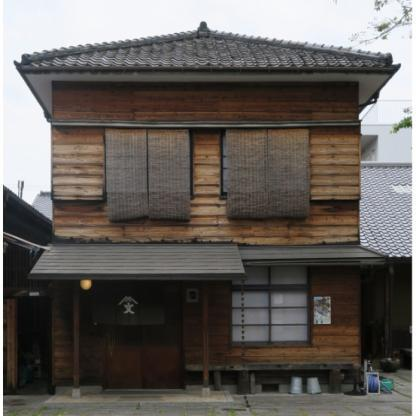Blind: (105, 129, 190, 221), (226, 129, 309, 220), (93, 285, 165, 326)
Building Outline: (14, 21, 402, 393)
Door: (104, 286, 183, 391)
Facade: (51, 71, 360, 393)
Floor Slab: (51, 234, 360, 247)
Ground Floor: (51, 247, 360, 393)
Pillar: (201, 280, 211, 397), (71, 281, 81, 398)
Roof: (14, 21, 402, 76), (27, 243, 389, 281)
Top Floor: (51, 81, 360, 234)
Window: (230, 267, 311, 346), (221, 128, 310, 196), (105, 128, 194, 196)
